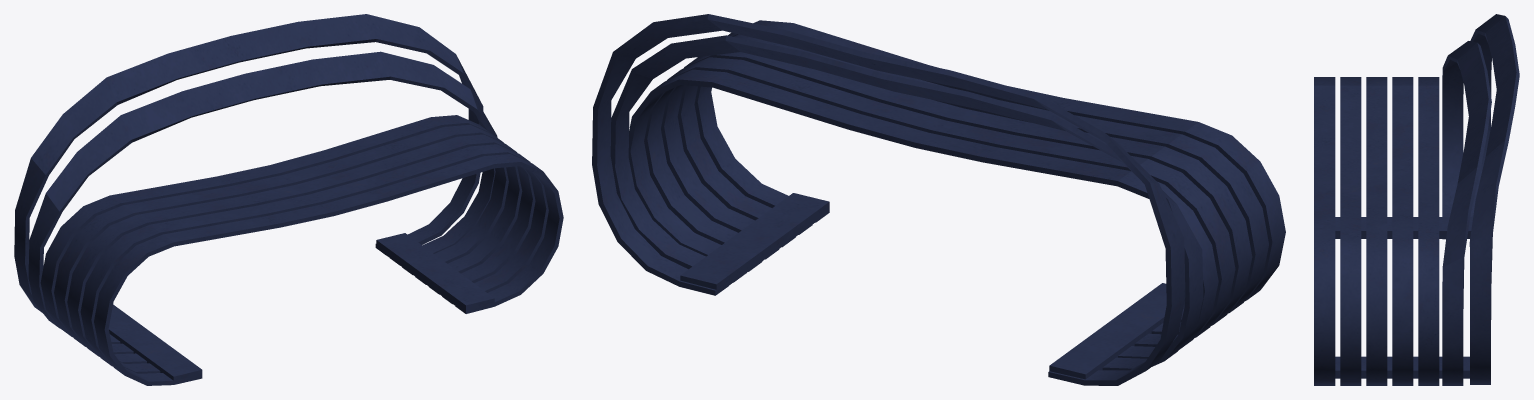
The model's file is metal_bench.glb.
The picture shows the model from 3 angles, left to right: view 1: azimuth 30°, elevation 25°; view 2: azimuth 150°, elevation 25°; view 3: azimuth 270°, elevation 25°; orthographic projection. The views are drawn at different scales.
Visible parts, largest first — view 1: Bench.001_0; view 2: Bench.001_0; view 3: Bench.001_0.
Boxes of the visible parts, x1,y1,x2,y2 form: Bench.001_0: (14, 14, 563, 385); Bench.001_0: (592, 14, 1285, 385); Bench.001_0: (1314, 14, 1519, 385).
Bounding box in the file's own units: 6.65 × 3.25 × 2.64.
1 material, 1 textured.
